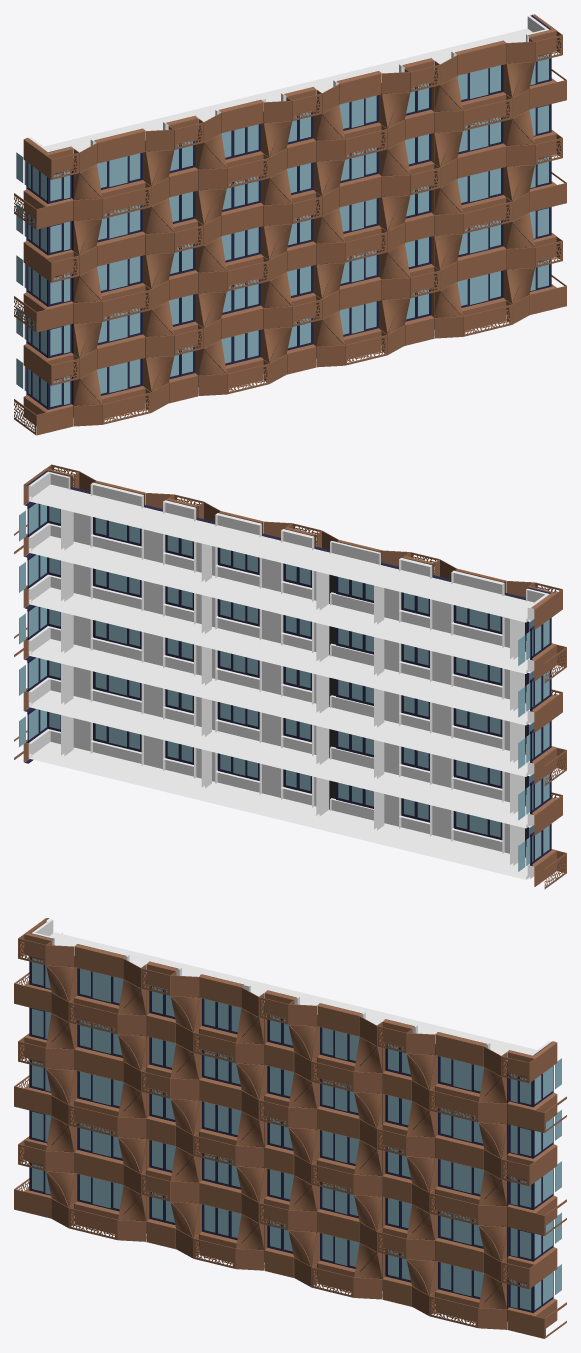
The picture shows the model from 3 angles, top to bottom: view 1: azimuth 30°, elevation 25°; view 2: azimuth 150°, elevation 25°; view 3: azimuth 330°, elevation 25°; orthographic projection.
Visible parts, largest first — view 1: 07 Стекло_СТК_Стекло по ГОСТ.001, Ramy_111.001, 05 Металл_СТЛ_Отлив_RAL 7024 Графит_290, Line198.001, Line195.001, Line201.001, Line191.001, Line194.001, Line197.001, Perekrytiya.001, 08 ВЗ_Воздушный зазор.001, Generic.001 (+47 smaller); view 2: Perekrytiya.001, 01 Бетон_МЖБ_В25 W4 F75.001, 07 Стекло_СТК_Стекло по ГОСТ.001, 05 Металл_СТЛ_Отлив_RAL 7024 Графит_290, Line191.001, Generic.001, Ramy_111.001, 08 ВЗ_Воздушный зазор.001, Line201.001, Line198.001, Line195.001, Line197.001 (+1 smaller); view 3: 07 Стекло_СТК_Стекло по ГОСТ.001, Ramy_111.001, 05 Металл_СТЛ_Отлив_RAL 7024 Графит_290, Line198.001, Line201.001, Line195.001, Line191.001, Line197.001, Line194.001, Perekrytiya.001, 08 ВЗ_Воздушный зазор.001, 01 Бетон_МЖБ_В25 W4 F75.001 (+47 smaller).
Part boxes in pixels (x1=…): 07 Стекло_СТК_Стекло по ГОСТ.001: x1=16, y1=54, x2=548, y2=406; Ramy_111.001: x1=24, y1=14, x2=557, y2=418; 05 Металл_СТЛ_Отлив_RAL 7024 Графит_290: x1=27, y1=52, x2=551, y2=409; Line198.001: x1=14, y1=172, x2=566, y2=332; Line195.001: x1=14, y1=69, x2=566, y2=229; Line201.001: x1=14, y1=275, x2=566, y2=435; Line191.001: x1=23, y1=31, x2=562, y2=179; Line194.001: x1=23, y1=134, x2=562, y2=282; Line197.001: x1=23, y1=237, x2=562, y2=385; Perekrytiya.001: x1=44, y1=28, x2=532, y2=418; 08 ВЗ_Воздушный зазор.001: x1=73, y1=63, x2=528, y2=417; Generic.001: x1=26, y1=15, x2=551, y2=404; Perekrytiya.001: x1=28, y1=484, x2=534, y2=879; 01 Бетон_МЖБ_В25 W4 F75.001: x1=28, y1=471, x2=549, y2=878; 07 Стекло_СТК_Стекло по ГОСТ.001: x1=19, y1=503, x2=549, y2=871; 05 Металл_СТЛ_Отлив_RAL 7024 Графит_290: x1=28, y1=502, x2=551, y2=863; Line191.001: x1=23, y1=464, x2=562, y2=629; Generic.001: x1=24, y1=471, x2=550, y2=866; Ramy_111.001: x1=24, y1=468, x2=556, y2=866; 08 ВЗ_Воздушный зазор.001: x1=70, y1=489, x2=526, y2=854; Line201.001: x1=14, y1=730, x2=566, y2=889; Line198.001: x1=14, y1=627, x2=566, y2=786; Line195.001: x1=14, y1=524, x2=566, y2=683; Line197.001: x1=23, y1=691, x2=562, y2=835; 07 Стекло_СТК_Стекло по ГОСТ.001: x1=32, y1=933, x2=561, y2=1310; Ramy_111.001: x1=24, y1=918, x2=556, y2=1322; 05 Металл_СТЛ_Отлив_RAL 7024 Графит_290: x1=29, y1=956, x2=553, y2=1312; Line198.001: x1=14, y1=1075, x2=566, y2=1235; Line201.001: x1=14, y1=1178, x2=566, y2=1338; Line195.001: x1=14, y1=972, x2=566, y2=1132; Line191.001: x1=18, y1=918, x2=557, y2=1083; Line197.001: x1=18, y1=1136, x2=557, y2=1289; Line194.001: x1=18, y1=1033, x2=557, y2=1186; Perekrytiya.001: x1=49, y1=932, x2=536, y2=1321; 08 ВЗ_Воздушный зазор.001: x1=51, y1=958, x2=507, y2=1320; 01 Бетон_МЖБ_В25 W4 F75.001: x1=32, y1=919, x2=551, y2=1323.
Size of the model in its own units: 32.38 by 16.25 by 4.2.
